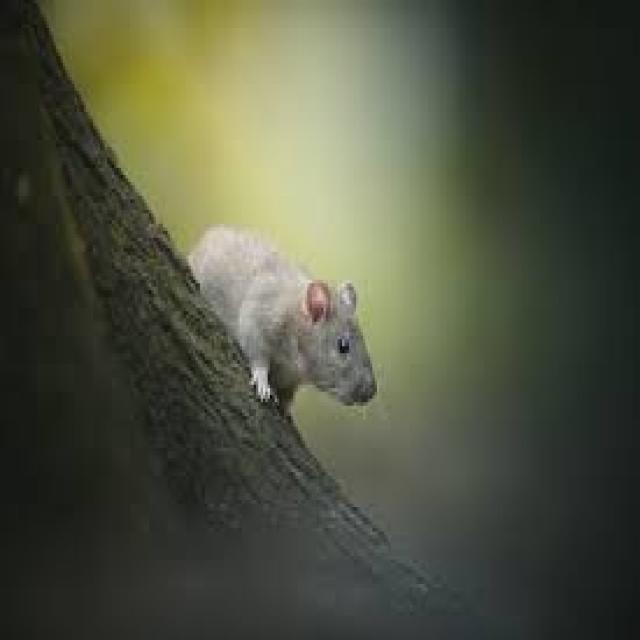rat: (184, 220, 377, 420)
